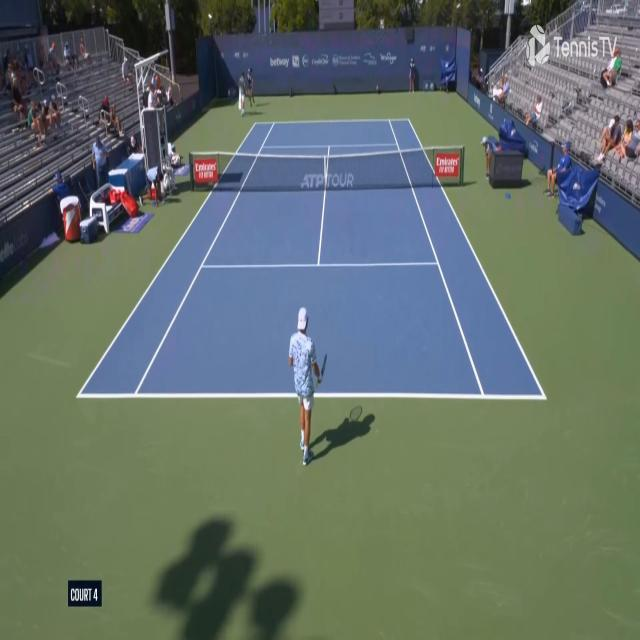tennis-player: (288, 304, 328, 469)
